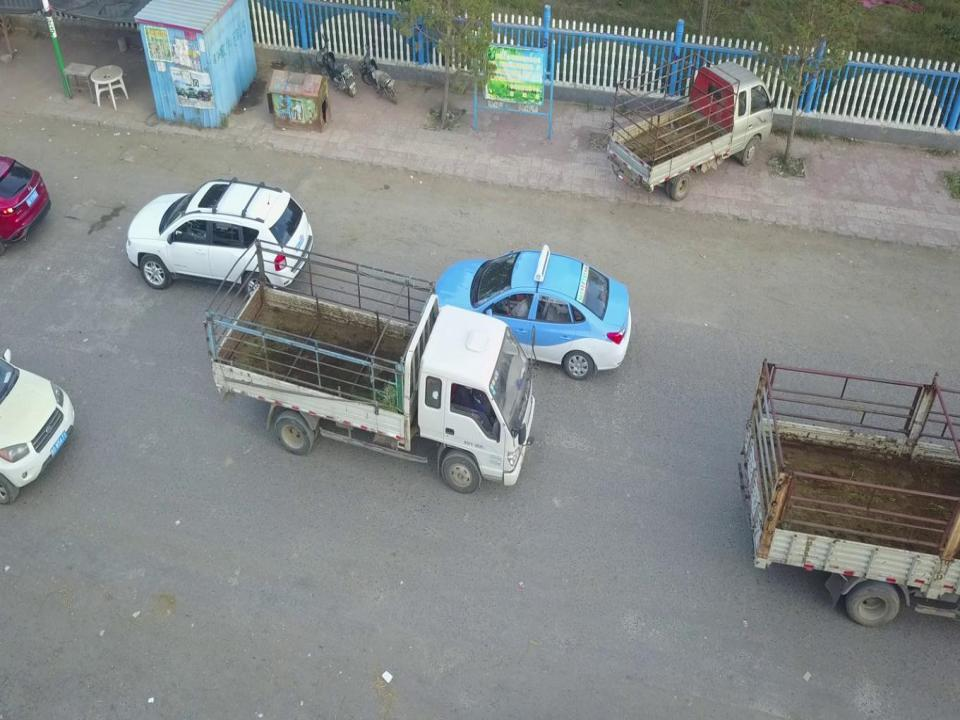car: (428, 242, 632, 382), (123, 173, 315, 306), (0, 346, 76, 504)
truck: (200, 233, 534, 495), (735, 351, 960, 629), (606, 60, 775, 202)
